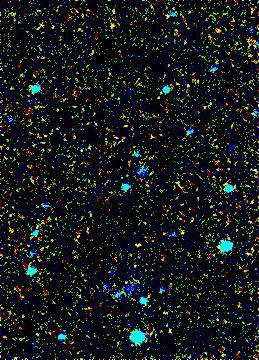star: (201, 18, 231, 48)
